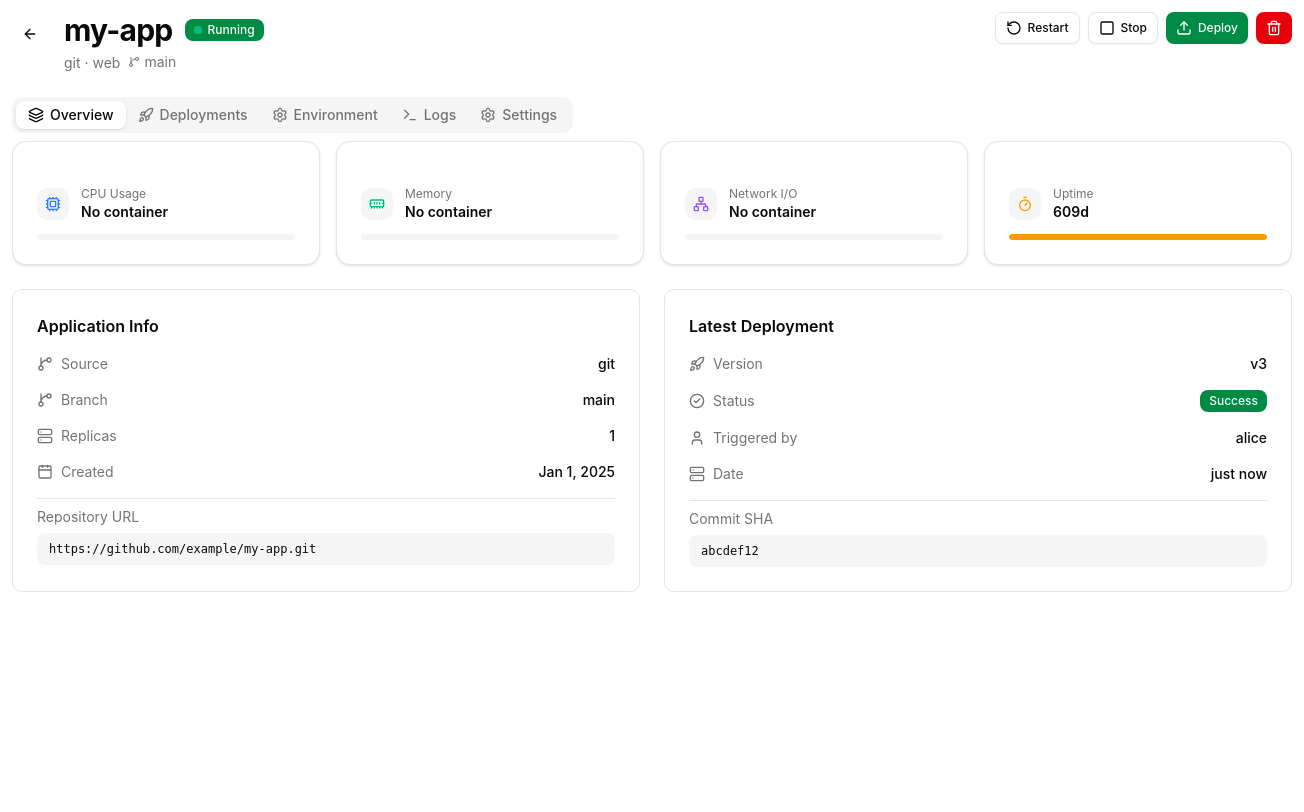
Test: AppDetail page › renders the deployment history table with a rollback control for older rows
The image size is (1304, 812).
Click the tab "Deployments".
click(192, 115)  # box [126,101,260,129]
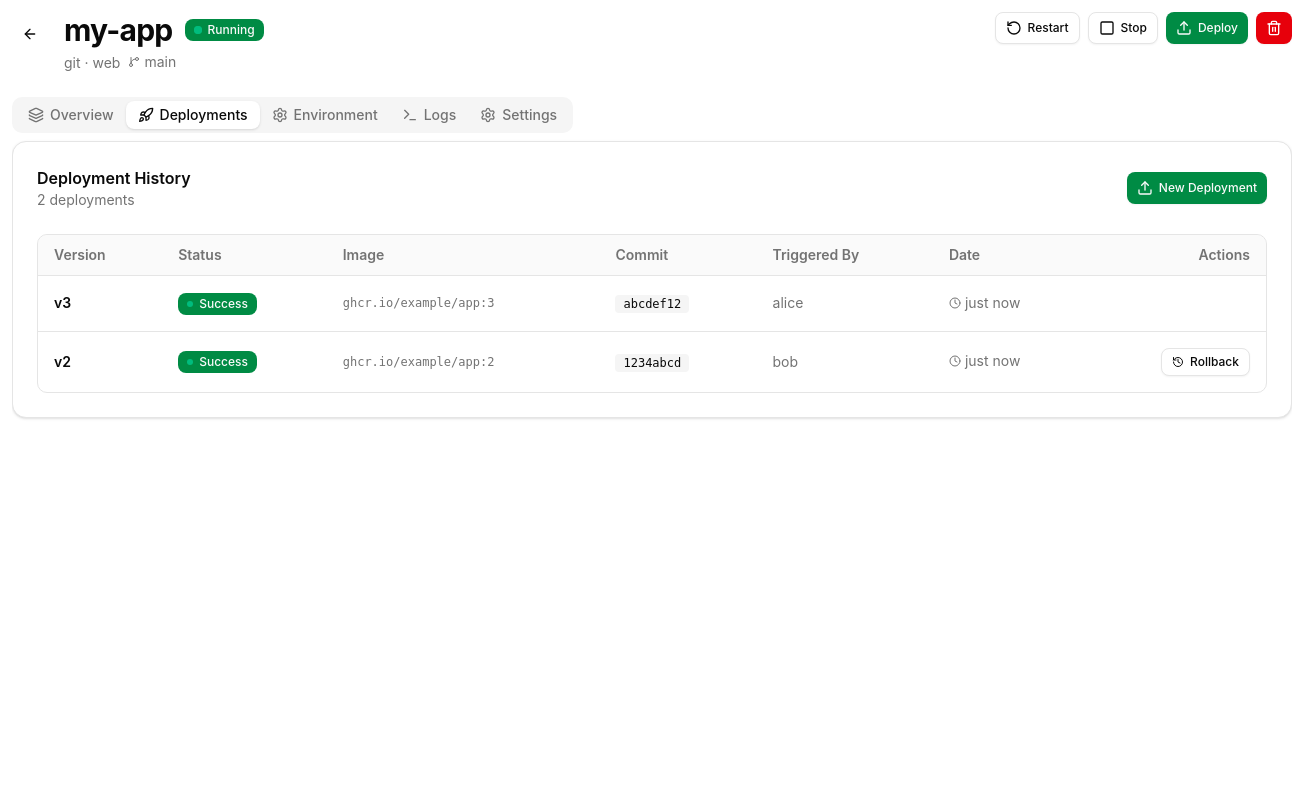
Expected: the text "v3" is shown, [38,275,162,331]
Now the text "v2" is shown, box [38,331,162,392]
Now the button "Rollback" is shown, box [1161,348,1250,376]
